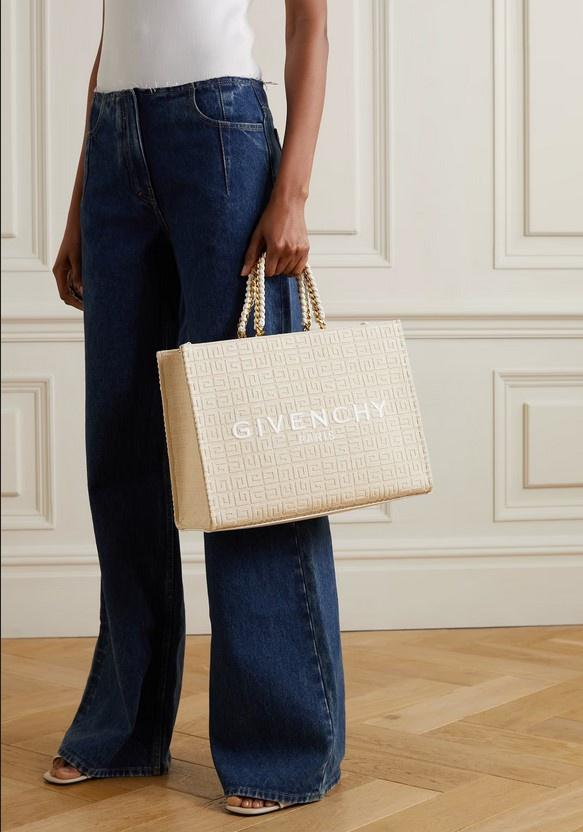GIVENCHY: (221, 396, 400, 444)
